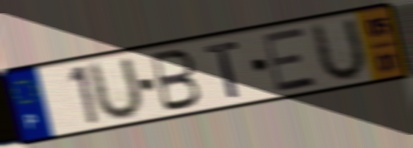1: (68, 63, 102, 129)
B: (149, 47, 204, 115)
E: (260, 25, 321, 95)
T: (202, 38, 243, 101)
U: (310, 14, 369, 85), (87, 53, 146, 124)
